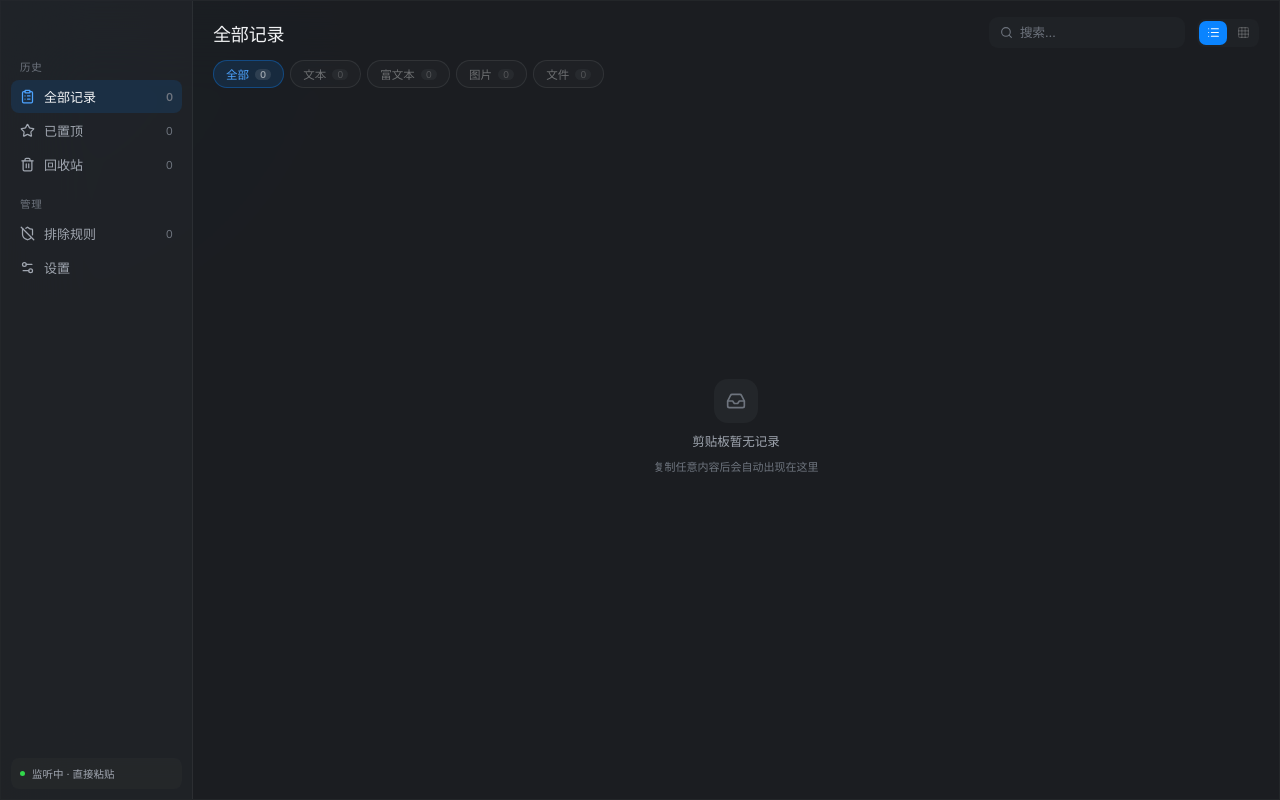
Test case: MainApp › 侧栏「排除规则」直接落到设置的排除规则分区
Click the text "排除规则": [70, 234] box x1=44 y1=226 x2=96 y2=242
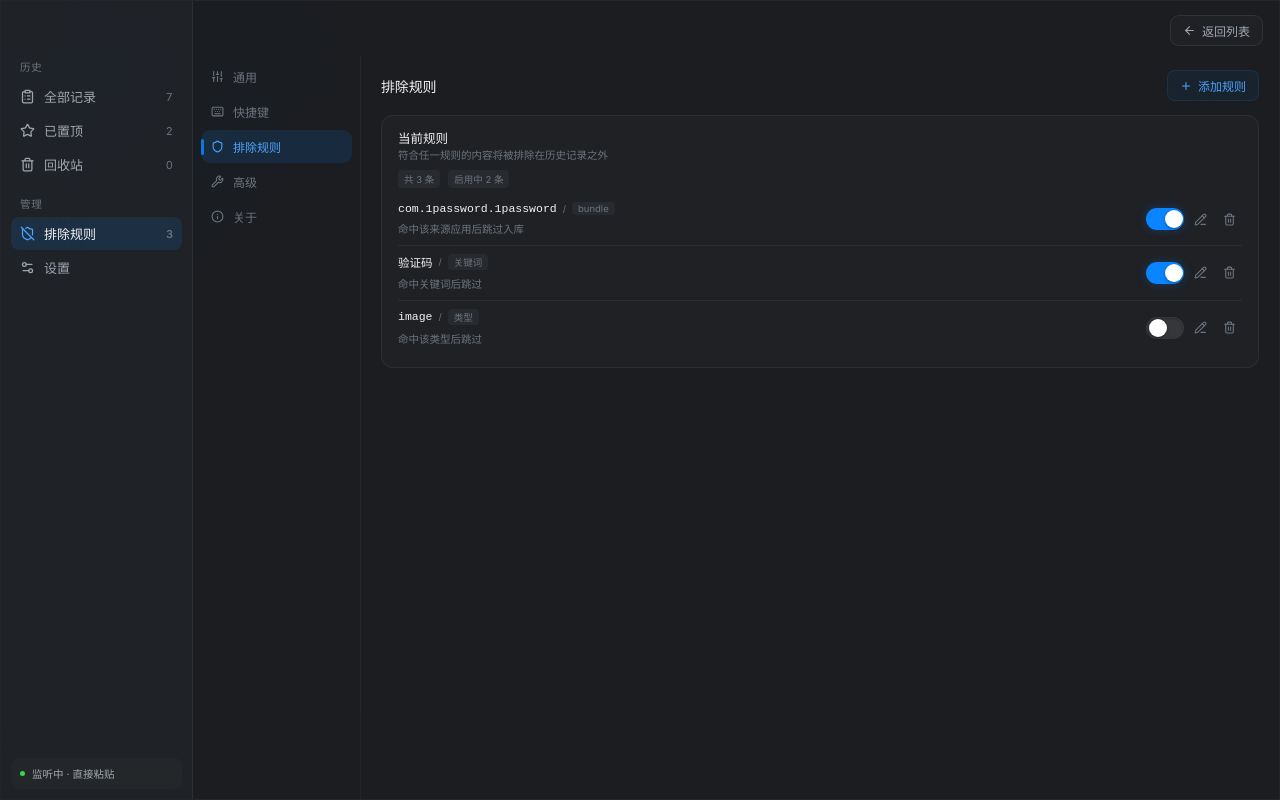
Check: the heading "排除规则" is shown, box x1=381 y1=76 x2=436 y2=96
Check: the button "添加规则" is shown, box x1=1167 y1=70 x2=1259 y2=101
